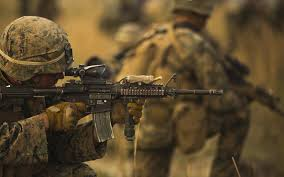gun: (10, 69, 228, 145)
